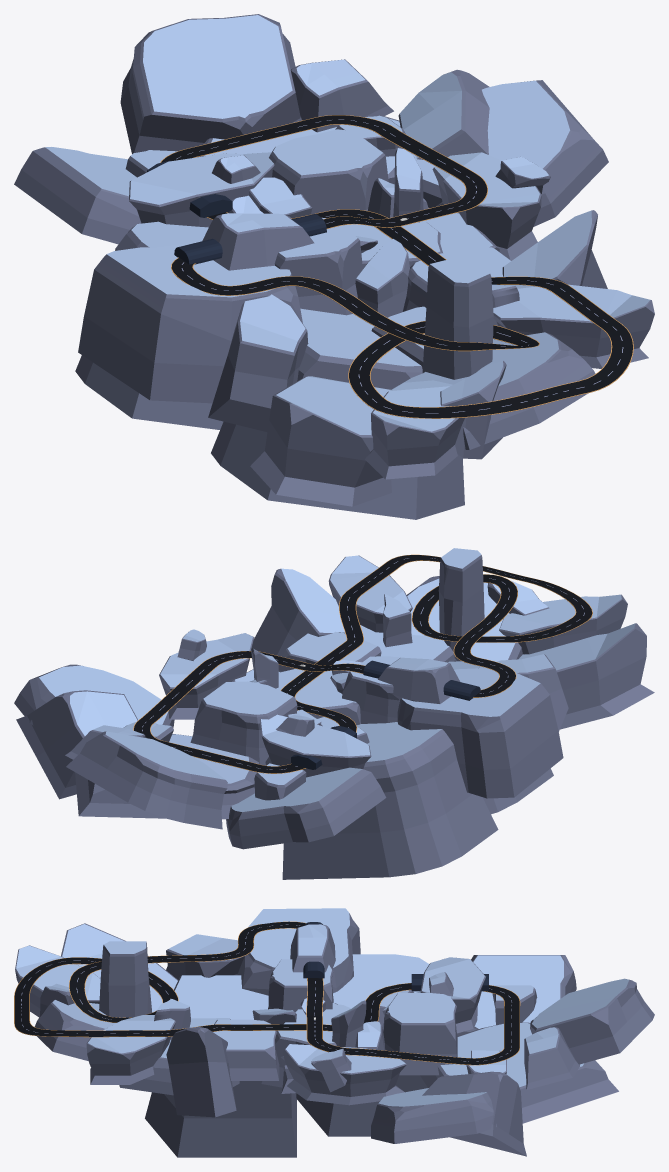
File: Track2.fbx
3 renders of one model, top to bottom at view 1: azimuth 30°, elevation 25°; view 2: azimuth 150°, elevation 25°; view 3: azimuth 270°, elevation 25°, orthographic. The views are drawn at different scales.
Parts seen in each view (by area): view 1: BezierCurve.001, Cube.071, Snow.002, Cube.079, Cube.074, Cube.027, Cube.063, Cube.038, Cube.041, Cube.077, Cube.065, Cube.069 (+44 smaller); view 2: Cube.073, BezierCurve.001, Cube.071, Cube.027, Cube.038, Cube.079, Cube.042, Cube.011, Cube.063, Cube.057, Cube.041, Cube.030 (+38 smaller); view 3: BezierCurve.001, Cube.074, Cube.057, Cube.040, Cube.027, Cube.042, Cube.039, Cube.030, Cube.072, Cube.023, Snow.008, Cube.063 (+42 smaller).
Boxes of the visible parts, bbox=[...] form: BezierCurve.001: bbox=[160, 115, 633, 418]; Cube.071: bbox=[78, 254, 302, 403]; Snow.002: bbox=[143, 15, 292, 118]; Cube.079: bbox=[250, 377, 391, 506]; Cube.074: bbox=[211, 345, 464, 519]; Cube.027: bbox=[120, 14, 301, 153]; Cube.063: bbox=[422, 264, 493, 379]; Cube.038: bbox=[14, 147, 141, 244]; Cube.041: bbox=[406, 80, 569, 185]; Cube.077: bbox=[208, 302, 308, 431]; Cube.065: bbox=[463, 332, 595, 449]; Cube.069: bbox=[365, 391, 464, 479]; Cube.073: bbox=[282, 729, 498, 879]; BezierCurve.001: bbox=[133, 554, 592, 773]; Cube.071: bbox=[397, 683, 563, 798]; Cube.027: bbox=[66, 731, 227, 829]; Cube.038: bbox=[226, 769, 386, 849]; Cube.079: bbox=[556, 623, 654, 729]; Cube.042: bbox=[16, 690, 138, 799]; Cube.011: bbox=[190, 696, 297, 765]; Cube.063: bbox=[438, 555, 484, 661]; Cube.057: bbox=[252, 568, 338, 656]; Cube.041: bbox=[39, 665, 168, 724]; Cube.030: bbox=[75, 734, 258, 819]; BezierCurve.001: bbox=[14, 921, 520, 1065]; Cube.074: bbox=[145, 975, 296, 1157]; Cube.057: bbox=[166, 1027, 236, 1117]; Cube.040: bbox=[371, 1092, 497, 1143]; Cube.027: bbox=[530, 979, 654, 1064]; Cube.042: bbox=[422, 1071, 526, 1156]; Cube.039: bbox=[473, 955, 563, 1028]; Cube.030: bbox=[420, 1022, 618, 1123]; Cube.072: bbox=[248, 908, 349, 967]; Cube.023: bbox=[282, 1044, 406, 1105]; Snow.008: bbox=[175, 975, 268, 1019]; Cube.063: bbox=[99, 942, 152, 1017].
Bounding box in the file's own units: 116342 × 53503 × 158260.
